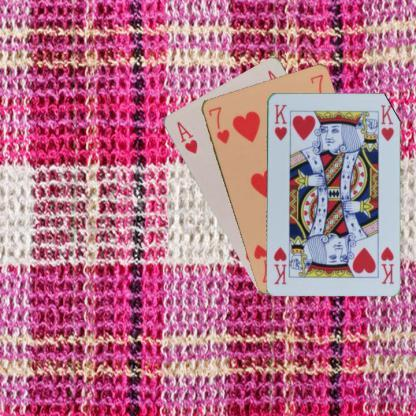7h: (206, 103, 230, 145)
Ah: (174, 118, 198, 156)
Kh: (378, 244, 394, 285), (272, 102, 288, 142)
